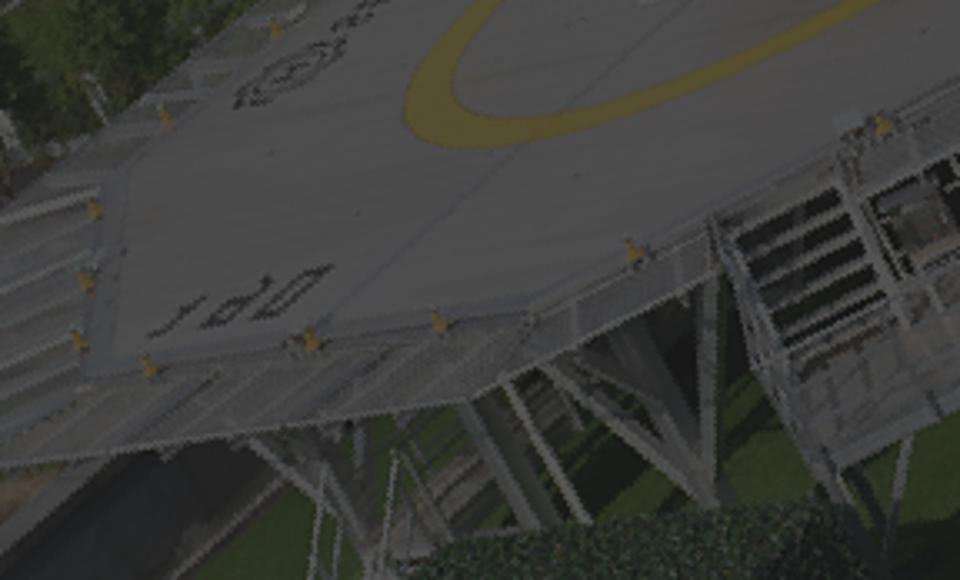Apron: (385, 2, 919, 158)
